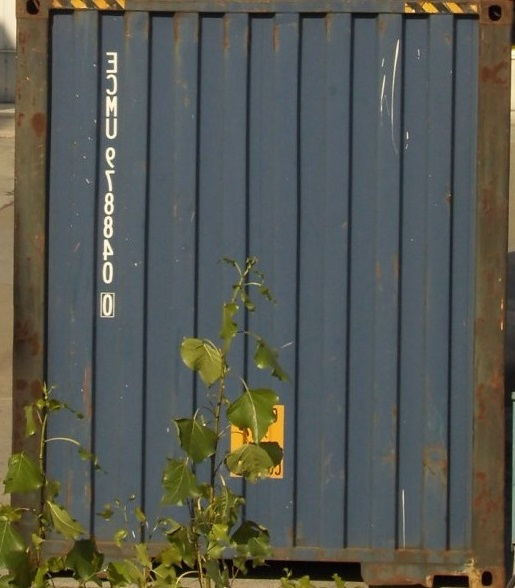container_no_door: (14, 1, 501, 586)
